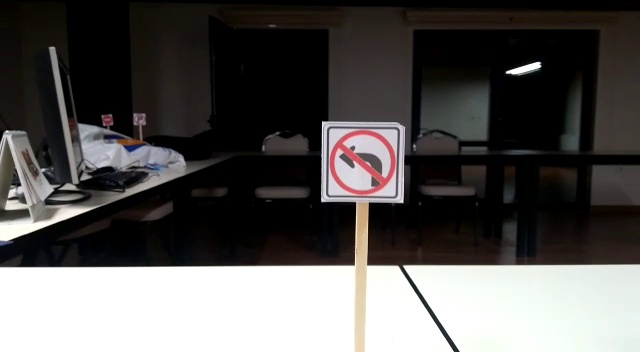sola_donulmez: (326, 126, 401, 196)
